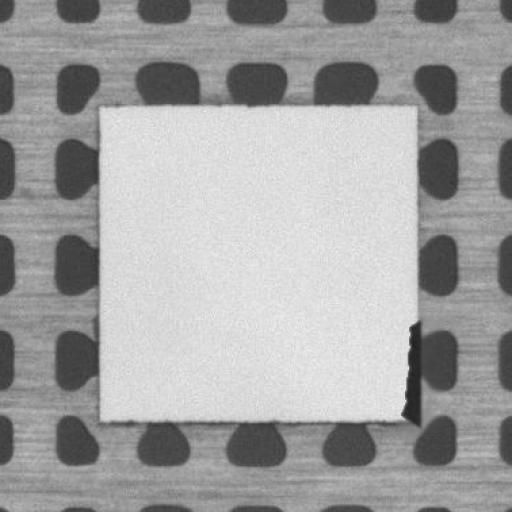DIE_BROKEN: (398, 314, 423, 430)
